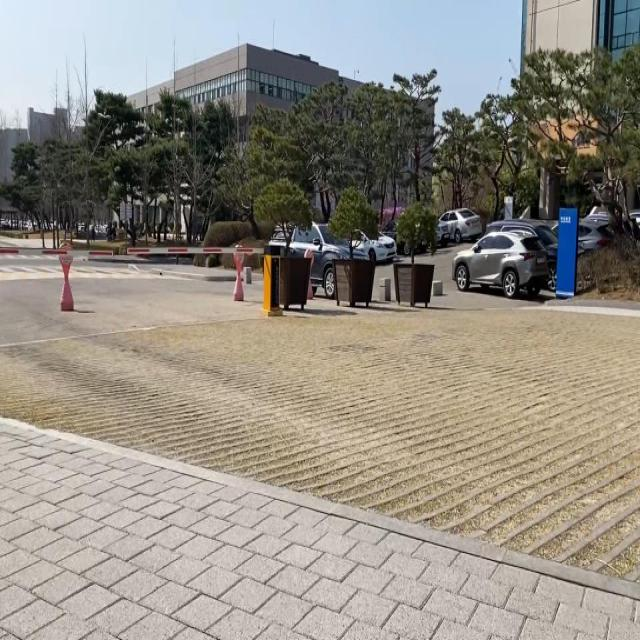sidewalk: (0, 417, 640, 639)
